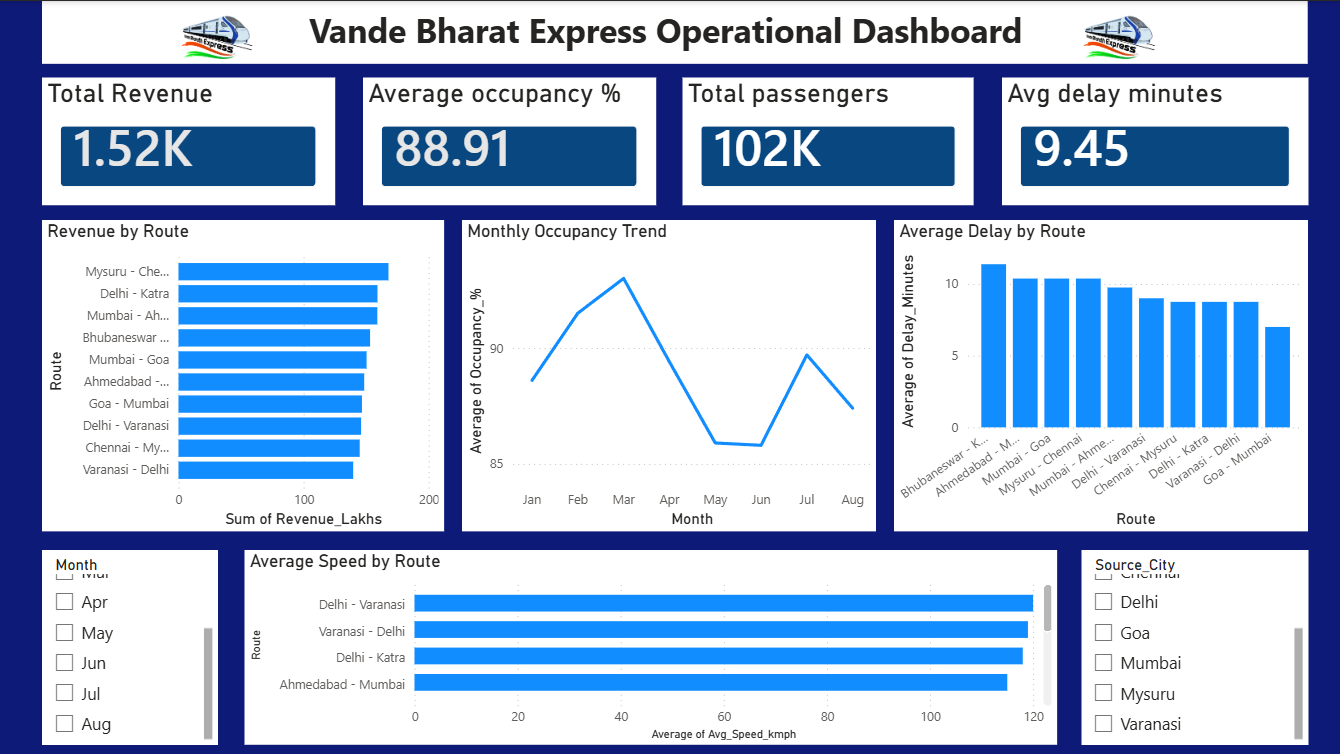

This screenshot's page, from the dashboard's own definition file:
{"tool":"powerbi","page":{"name":"Page 1","canvas":[1280,720],"ordinal":0},"visuals":[{"type":"cardVisual","title":"Total Revenue","fields":{"Data":["Sum(Vande Bharat Data.Revenue_Lakhs)"]},"box":[40.7,73.2,279.8,122],"z":0},{"type":"cardVisual","title":"Average occupancy %","fields":{"Data":["Avg(Vande Bharat Data.Occupancy_%)"]},"box":[346.5,73.2,279.8,122],"z":1000},{"type":"cardVisual","title":"Total passengers","fields":{"Data":["Sum(Vande Bharat Data.Passenger_Count)"]},"box":[652.2,73.2,278.1,122],"z":2000},{"type":"cardVisual","title":"Avg delay minutes","fields":{"Data":["Avg(Vande Bharat Data.Delay_Minutes)"]},"box":[956.4,73.2,292.8,122],"z":3000},{"type":"clusteredBarChart","title":"Revenue by Route","fields":{"Category":["Vande Bharat Data.Route"],"Y":["Sum(Vande Bharat Data.Revenue_Lakhs)"]},"box":[40.7,209.8,383.9,297.7],"z":4000},{"type":"lineChart","title":"Monthly Occupancy Trend","fields":{"Category":["Vande Bharat Data.Month"],"Y":["Avg(Vande Bharat Data.Occupancy_%)"]},"box":[440.8,209.8,395.3,297.7],"z":5000},{"type":"clusteredColumnChart","title":"Average Delay by Route","fields":{"Category":["Vande Bharat Data.Route"],"Y":["Avg(Vande Bharat Data.Delay_Minutes)"]},"box":[853.9,209.8,395.3,297.7],"z":6000},{"type":"slicer","fields":{"Values":["Vande Bharat Data.Month"]},"box":[40.7,523.7,167.5,185.4],"z":7000},{"type":"slicer","fields":{"Values":["Vande Bharat Data.Source_City"]},"box":[1032.9,523.7,216.3,185.4],"z":8000},{"type":"textbox","box":[40.7,0,1208.5,60.2],"z":9000},{"type":"clusteredBarChart","title":"Average Speed by Route","fields":{"Category":["Vande Bharat Data.Route"],"Y":["Avg(Vande Bharat Data.Avg_Speed_kmph)"]},"box":[232.9,524.6,775.7,186.3],"z":10000},{"type":"image","box":[995.4,0,146.4,73.2],"z":10001},{"type":"image","box":[146.4,0,122,73.2],"z":10002}]}

Visuals, with their boxes in screenshot pixels (x1, y1, x2, y2), scaled from the page's 1280x720 canvas onto the 1340x754 screenshot:
"Total Revenue" cardVisual: 43 77 336 204
"Average occupancy %" cardVisual: 363 77 656 204
"Total passengers" cardVisual: 683 77 974 204
"Avg delay minutes" cardVisual: 1001 77 1308 204
"Revenue by Route" clusteredBarChart: 43 220 445 531
"Monthly Occupancy Trend" lineChart: 461 220 875 531
"Average Delay by Route" clusteredColumnChart: 894 220 1308 531
slicer - Vande Bharat Data.Month: 43 548 218 743
slicer - Vande Bharat Data.Source_City: 1081 548 1308 743
textbox: 43 0 1308 63
"Average Speed by Route" clusteredBarChart: 244 549 1056 744
image: 1042 0 1195 77
image: 153 0 281 77
